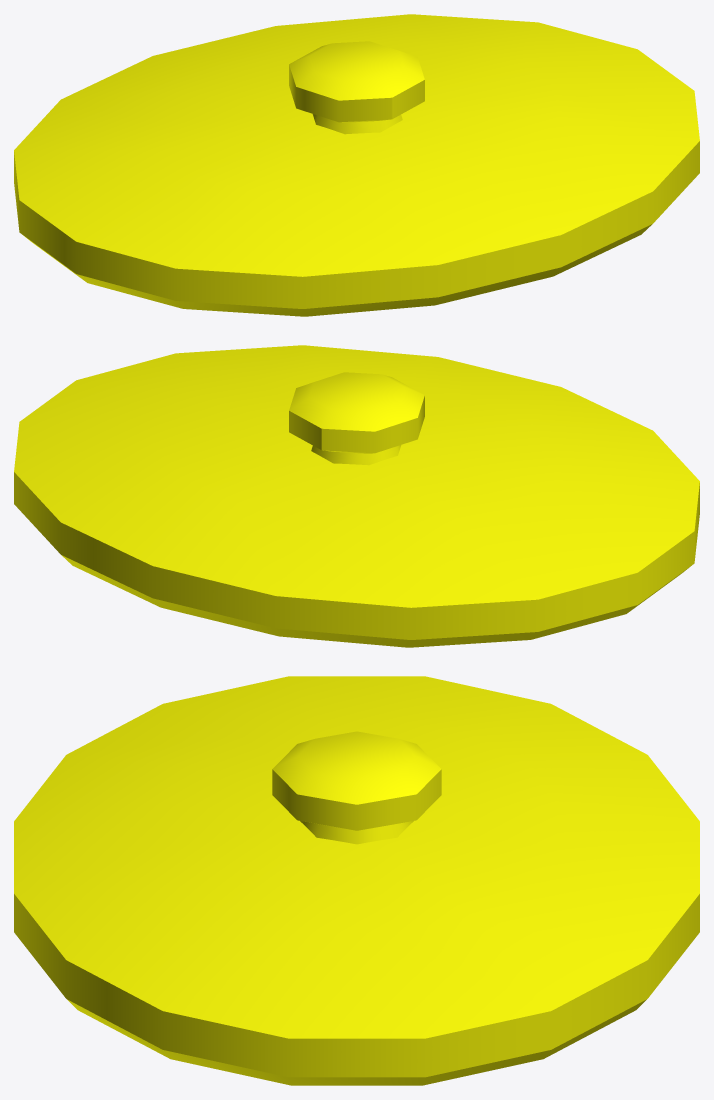
Rendered from kaykit-lid-large.glb.
3 renders of one model, top to bottom at view 1: azimuth 30°, elevation 25°; view 2: azimuth 150°, elevation 25°; view 3: azimuth 270°, elevation 25°, orthographic. The views are drawn at different scales.
Parts seen in each view (by area): view 1: lid_large; view 2: lid_large; view 3: lid_large.
Boxes of the visible parts, x1,y1,x2,y2 form: lid_large: [14, 14, 699, 316]; lid_large: [14, 345, 699, 647]; lid_large: [14, 676, 699, 1085].
Bounding box in the file's own units: 1.5 × 0.2999 × 1.2.
